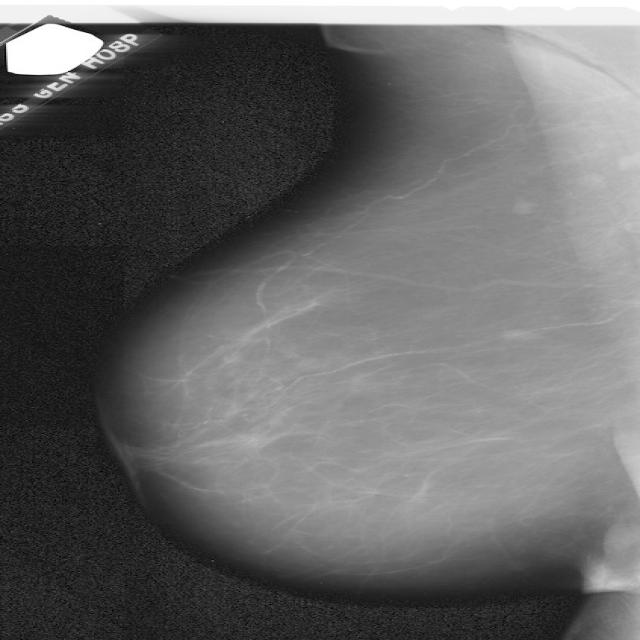tumour: (499, 326, 546, 340)
